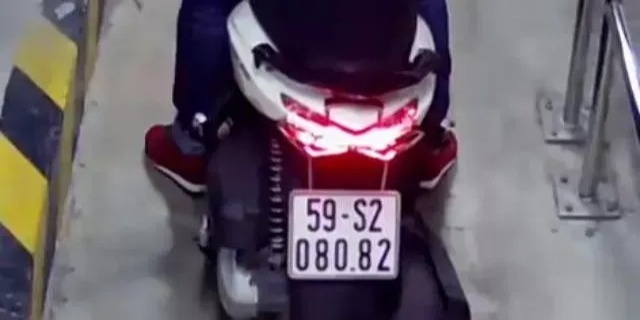bien_so: (289, 189, 400, 278)
